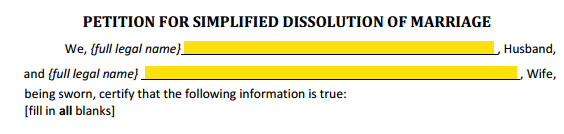textline: (139, 64, 522, 82), (179, 40, 500, 57)
